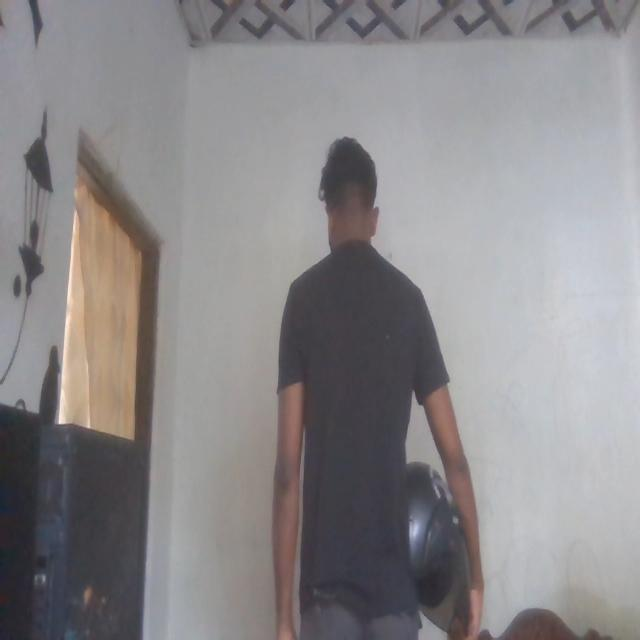Person: (263, 143, 468, 640)
